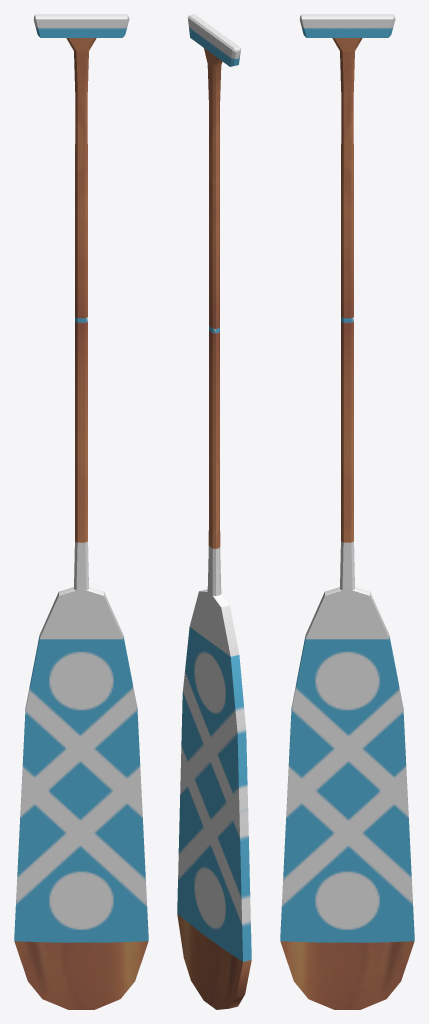
File: oar-6.fbx
3 views of the same model, side by side, from view 1: azimuth 90°, elevation 25°; view 2: azimuth 210°, elevation 25°; view 3: azimuth 270°, elevation 25° (orthographic).
Visible parts, largest first — view 1: pCube3; view 2: pCube3; view 3: pCube3.
Boxes of the visible parts, bbox=[...] form: pCube3: bbox=[14, 14, 148, 1009]; pCube3: bbox=[177, 14, 251, 1009]; pCube3: bbox=[280, 14, 414, 1009].
Bounding box in the file's own units: 0.4155 × 44.19 × 5.42.
1 material, 1 textured.
